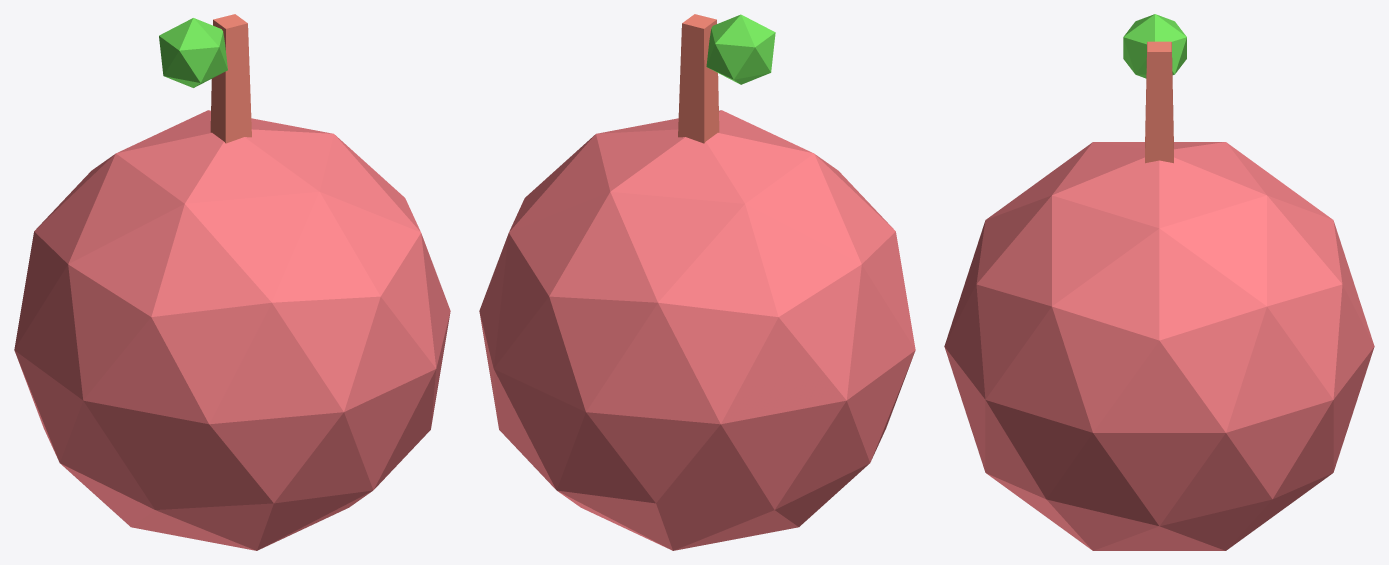
Rendered from Apple.dae.
3 renders of one model, left to right at view 1: azimuth 30°, elevation 25°; view 2: azimuth 150°, elevation 25°; view 3: azimuth 270°, elevation 25°, orthographic. The views are drawn at different scales.
Parts seen in each view (by area): view 1: Cube.002; view 2: Cube.002; view 3: Cube.002.
Boxes of the visible parts, x1,y1,x2,y2 form: Cube.002: [14, 14, 450, 550]; Cube.002: [479, 14, 915, 550]; Cube.002: [944, 14, 1374, 550].
Size of the model in its own units: 0.407 by 0.4279 by 0.5575.
